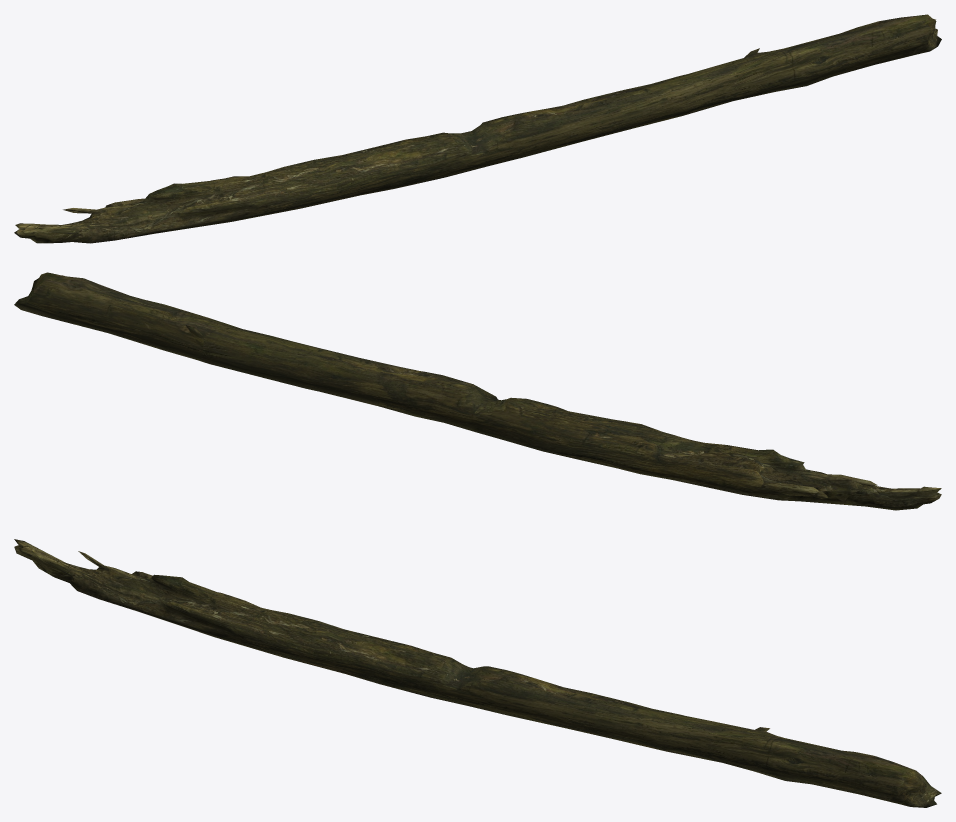
Rendered from log_hop.glb.
3 views of the same model, one above another, from view 1: azimuth 30°, elevation 25°; view 2: azimuth 150°, elevation 25°; view 3: azimuth 330°, elevation 25° (orthographic).
Parts seen in each view (by area): view 1: log_hop; view 2: log_hop; view 3: log_hop.
Boxes of the visible parts, left/top/right/bottom form: log_hop: left=14, top=14, right=941, bottom=243; log_hop: left=14, top=272, right=941, bottom=510; log_hop: left=14, top=539, right=941, bottom=807.
Size of the model in its own units: 10.98 by 0.6242 by 0.6028.
1 material, 1 textured.
